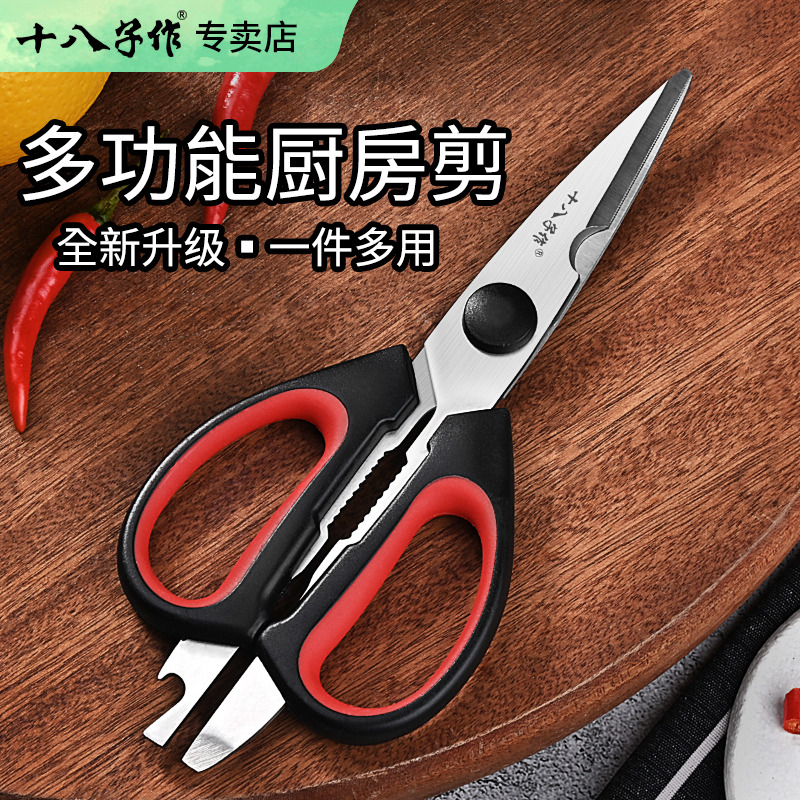scissors: (57, 67, 726, 800)
